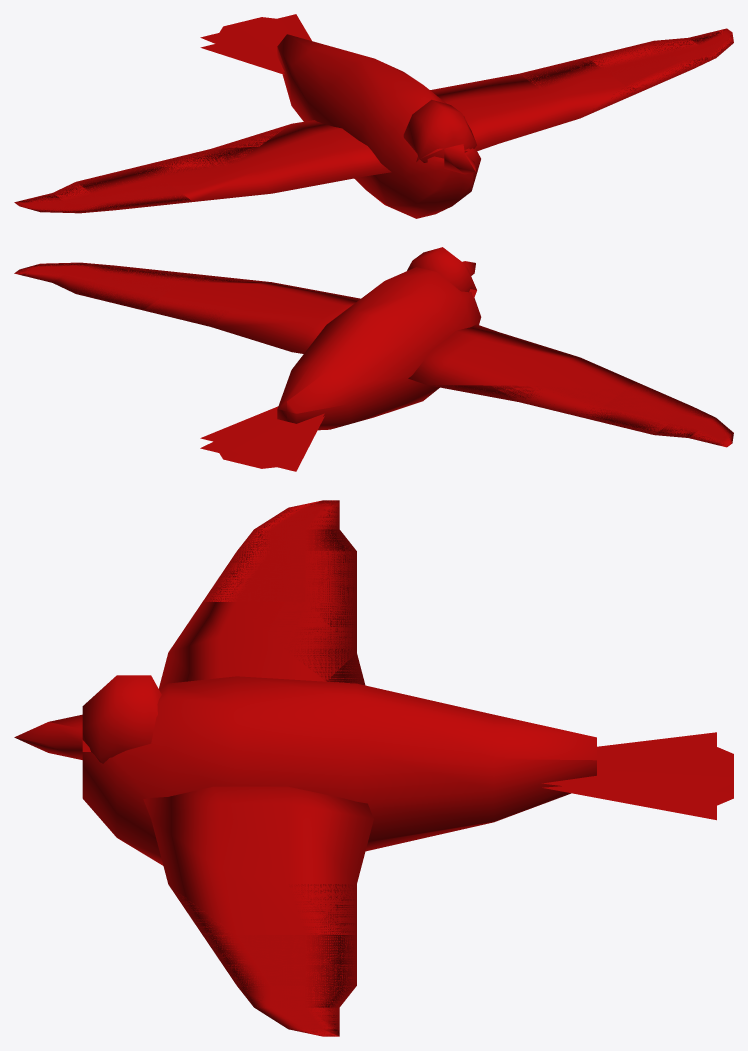
The model's file is crossbill.glb.
The picture shows the model from 3 angles, top to bottom: view 1: azimuth 30°, elevation 25°; view 2: azimuth 150°, elevation 25°; view 3: azimuth 270°, elevation 25°; orthographic projection. The views are drawn at different scales.
Parts seen in each view (by area): view 1: wing, body; view 2: wing, body; view 3: body, wing.
Part boxes in pixels (x1,y1,x2,y2): wing: (14, 28, 733, 213); body: (200, 14, 480, 218); wing: (14, 262, 733, 447); body: (200, 247, 481, 471); body: (14, 675, 733, 865); wing: (143, 500, 373, 1036).
Bounding box in the file's own units: 0.2891 × 0.0469 × 0.1641.
